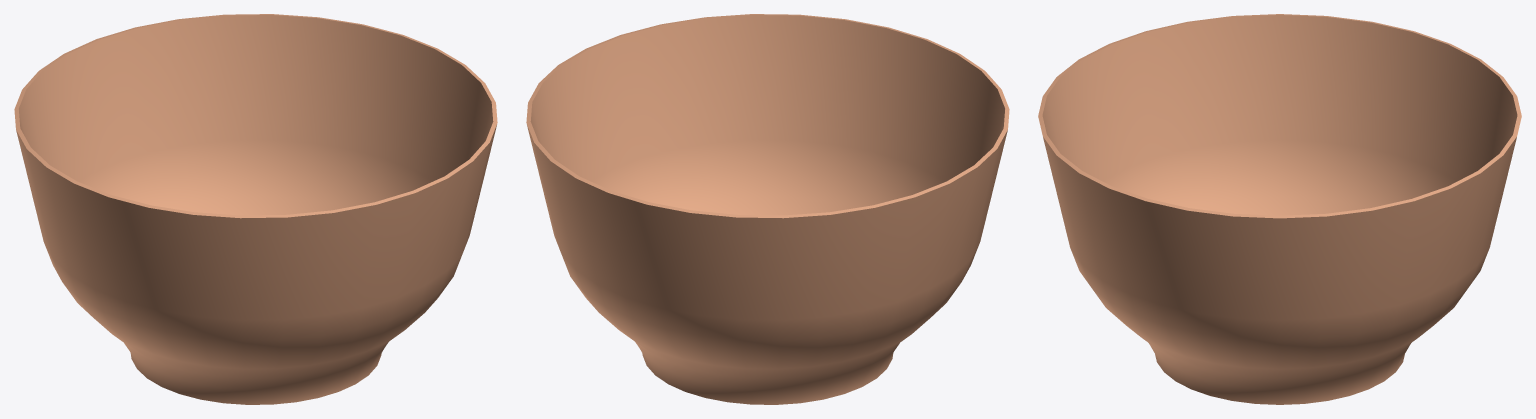
The model's file is mangkok.fbx.
3 views of the same model, side by side, from view 1: azimuth 30°, elevation 25°; view 2: azimuth 150°, elevation 25°; view 3: azimuth 270°, elevation 25° (orthographic).
Parts seen in each view (by area): view 1: Cylinder.138; view 2: Cylinder.138; view 3: Cylinder.138.
Boxes of the visible parts, x1,y1,x2,y2 form: Cylinder.138: (14, 14, 497, 404); Cylinder.138: (526, 14, 1009, 404); Cylinder.138: (1038, 14, 1521, 404).
Bounding box in the file's own units: 566 × 308 × 566.
